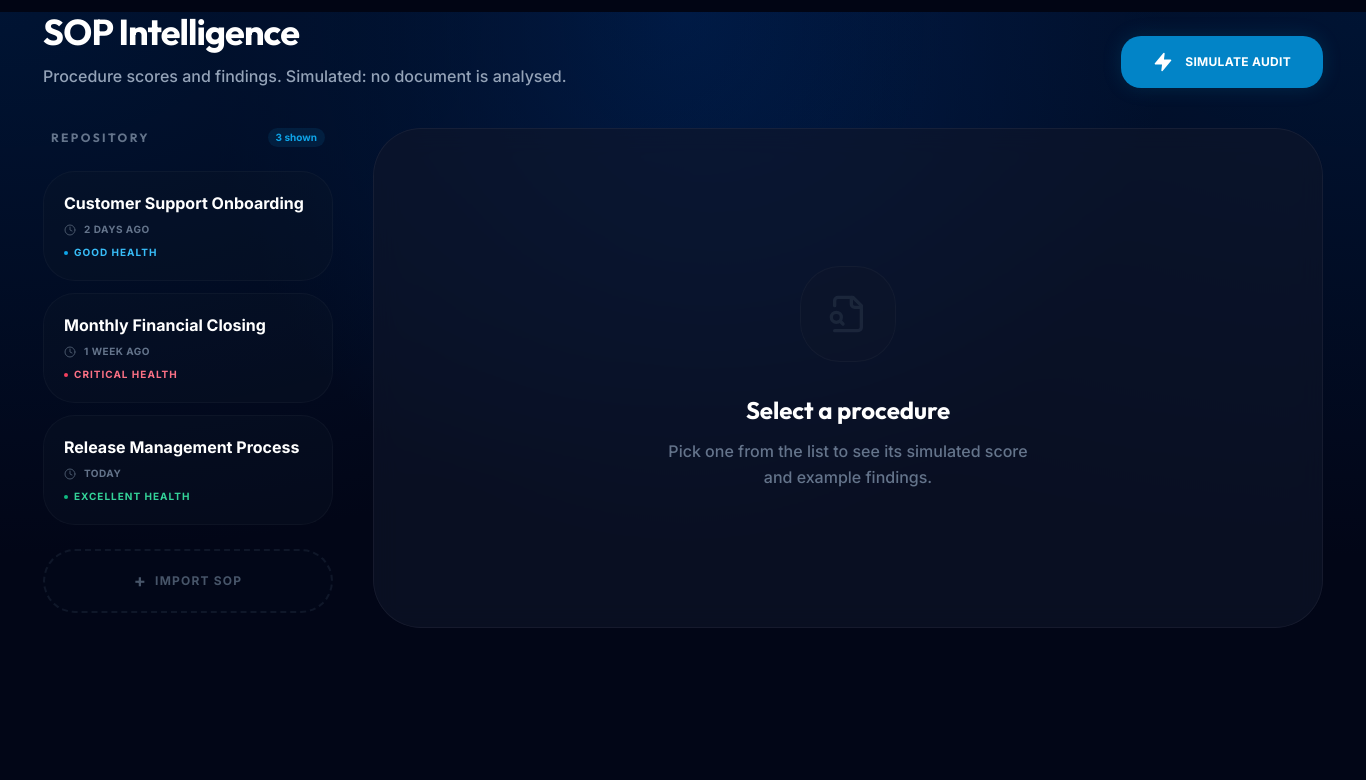
Test: SOPAnalysis › marks the controls that do nothing
Check: the button "+ Import SOP" is disabled, box left=43, top=549, right=333, bottom=613
Step 1. Click the button "Customer Support Onboarding 2 days ago Good Health" → (184, 203), box left=43, top=171, right=333, bottom=281
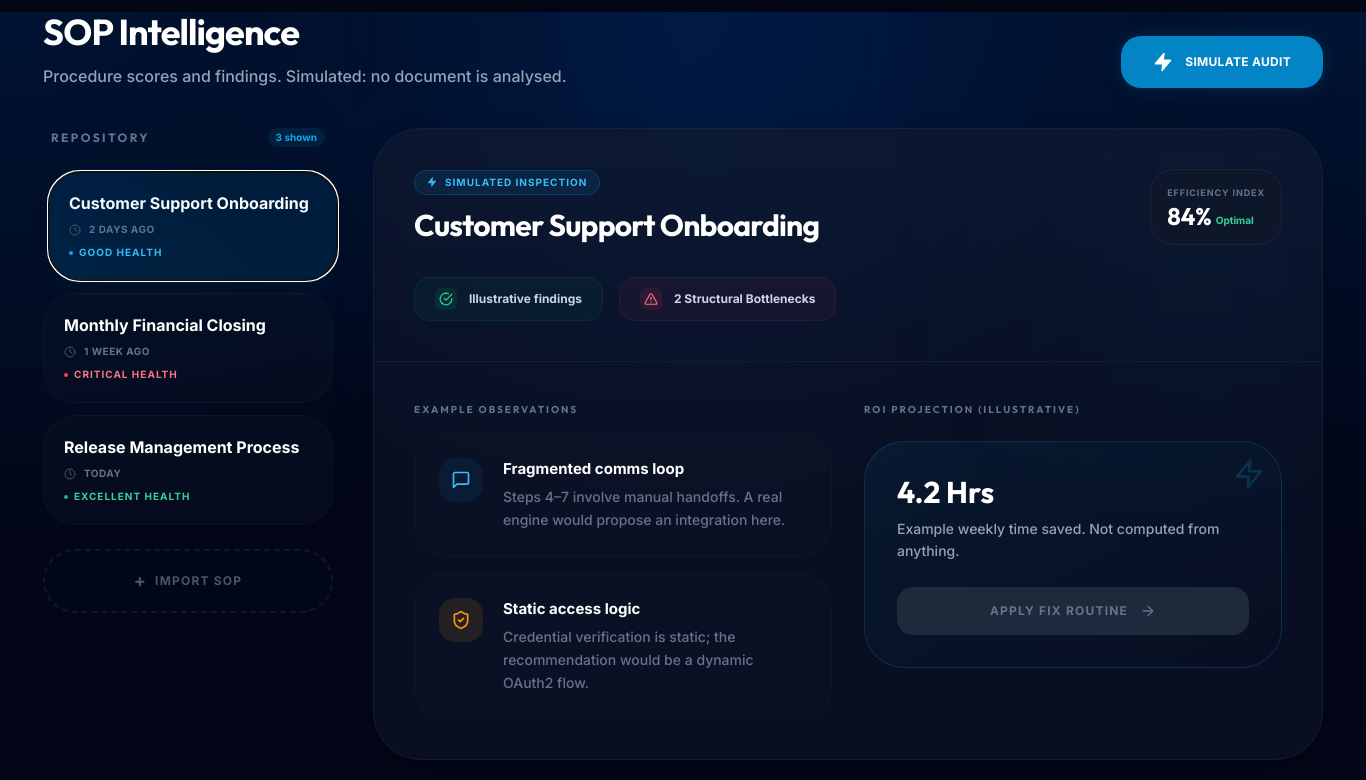
Check: the button "Apply Fix Routine" is disabled, box left=897, top=587, right=1249, bottom=635
